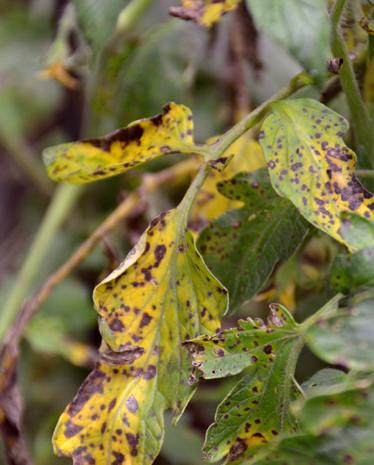Tomato Early blight leaf: (57, 204, 208, 465), (252, 95, 374, 248), (39, 106, 203, 181)
